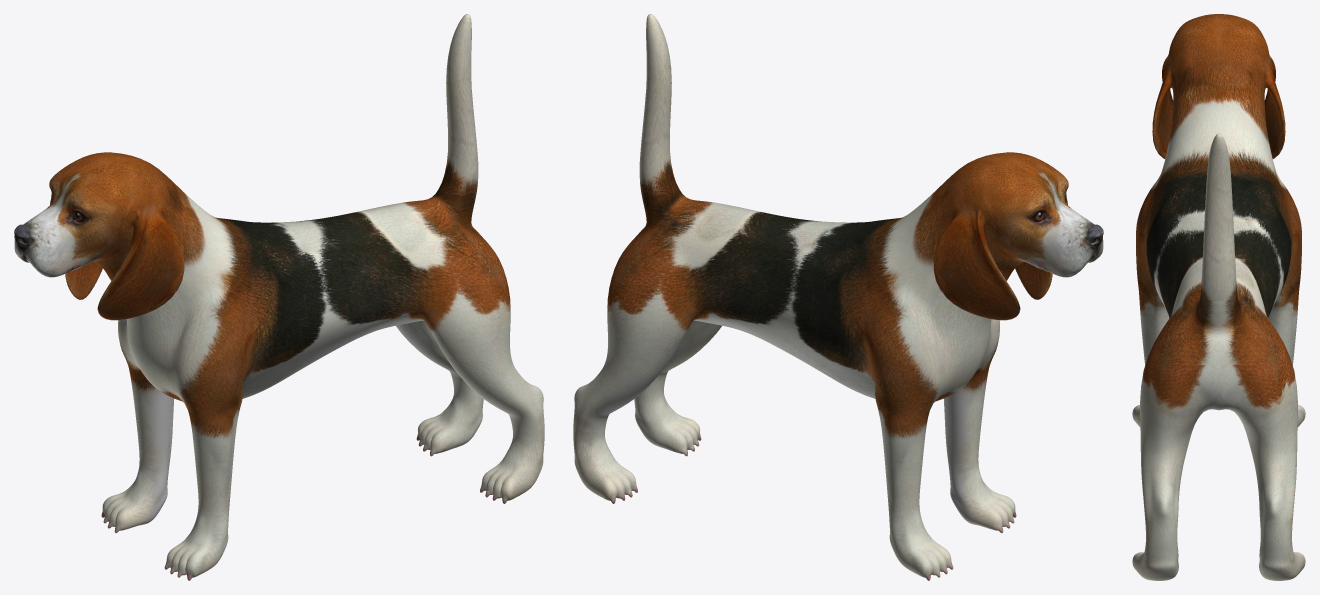
The model's file is beagle.glb.
3 renders of one model, left to right at view 1: azimuth 30°, elevation 25°; view 2: azimuth 150°, elevation 25°; view 3: azimuth 270°, elevation 25°, orthographic. The views are drawn at different scales.
Visible parts, largest first — view 1: 13041_Beagle_v1_L1.001; view 2: 13041_Beagle_v1_L1.001; view 3: 13041_Beagle_v1_L1.001.
Part boxes in pixels (x1,y1,x2,y2): 13041_Beagle_v1_L1.001: (14, 14, 544, 580); 13041_Beagle_v1_L1.001: (573, 14, 1103, 580); 13041_Beagle_v1_L1.001: (1132, 14, 1305, 580).
Bounding box in the file's own units: 75.58 × 66.33 × 23.71.
Materials: 1 (1 with a texture image).
